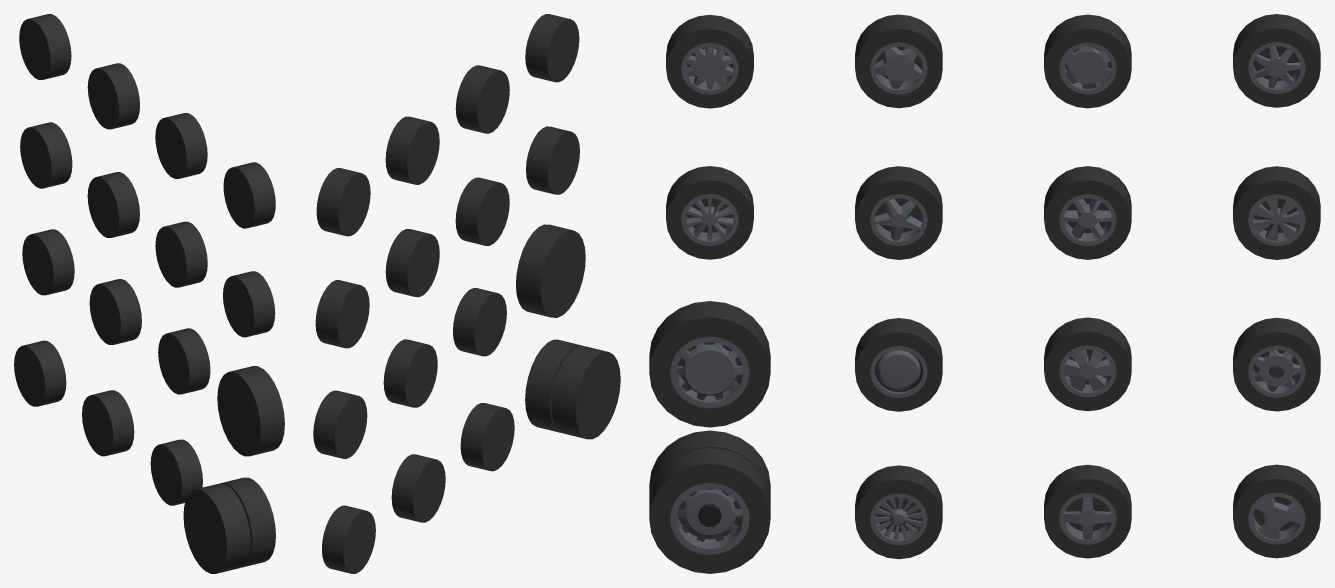
Rendered from TIRES_01.glb.
3 views of the same model, side by side, from view 1: azimuth 30°, elevation 25°; view 2: azimuth 150°, elevation 25°; view 3: azimuth 270°, elevation 25° (orthographic). The views are drawn at different scales.
Visible parts, largest first — view 1: WHEEL BIG.005, WHEEL BIG.006, WHEEL.004, WHEEL.014, WHEEL.009, WHEEL.007, WHEEL, WHEEL.010, WHEEL.003, WHEEL.002, WHEEL.015, WHEEL.011 (+4 smaller); view 2: WHEEL BIG.005, WHEEL BIG.006, WHEEL, WHEEL.003, WHEEL.013, WHEEL.004, WHEEL.001, WHEEL.014, WHEEL.012, WHEEL.009, WHEEL.002, WHEEL.011 (+4 smaller); view 3: WHEEL BIG.005, WHEEL BIG.006, WHEEL.012, WHEEL.011, WHEEL.009, WHEEL.003, WHEEL.002, WHEEL.013, WHEEL, WHEEL.007, WHEEL.015, WHEEL.004 (+4 smaller).
Boxes of the visible parts, left/top/right/bottom form: WHEEL BIG.005: left=183, top=477, right=275, bottom=573; WHEEL BIG.006: left=217, top=366, right=284, bottom=456; WHEEL.004: left=22, top=229, right=74, bottom=295; WHEEL.014: left=223, top=162, right=275, bottom=228; WHEEL.009: left=14, top=340, right=66, bottom=406; WHEEL.007: left=158, top=328, right=210, bottom=394; WHEEL: left=82, top=390, right=134, bottom=456; WHEEL.010: left=155, top=113, right=207, bottom=178; WHEEL.003: left=20, top=122, right=72, bottom=188; WHEEL.002: left=19, top=14, right=71, bottom=79; WHEEL.015: left=223, top=271, right=275, bottom=337; WHEEL.011: left=155, top=221, right=207, bottom=287; WHEEL BIG.005: left=525, top=339, right=620, bottom=439; WHEEL BIG.006: left=516, top=224, right=585, bottom=317; WHEEL: left=391, top=454, right=445, bottom=522; WHEEL.003: left=315, top=280, right=369, bottom=348; WHEEL.013: left=385, top=229, right=439, bottom=297; WHEEL.004: left=313, top=390, right=367, bottom=458; WHEEL.001: left=383, top=339, right=437, bottom=407; WHEEL.014: left=525, top=14, right=579, bottom=82; WHEEL.012: left=385, top=116, right=439, bottom=184; WHEEL.009: left=322, top=505, right=375, bottom=573; WHEEL.002: left=316, top=168, right=370, bottom=236; WHEEL.011: left=455, top=177, right=509, bottom=245; WHEEL BIG.005: left=649, top=430, right=770, bottom=573; WHEEL BIG.006: left=649, top=301, right=770, bottom=427; WHEEL.012: left=1044, top=14, right=1131, bottom=108; WHEEL.011: left=855, top=166, right=942, bottom=259; WHEEL.009: left=1233, top=464, right=1320, bottom=558; WHEEL.003: left=1233, top=166, right=1320, bottom=259; WHEEL.002: left=1233, top=14, right=1320, bottom=107; WHEEL.013: left=1044, top=166, right=1131, bottom=259; WHEEL: left=1044, top=464, right=1131, bottom=558; WHEEL.007: left=855, top=318, right=942, bottom=411; WHEEL.015: left=666, top=166, right=753, bottom=259; WHEEL.004: left=1233, top=317, right=1320, bottom=411.
Size of the model in its own units: 0.6917 by 4.49 by 4.98.
1 material, 1 textured.
